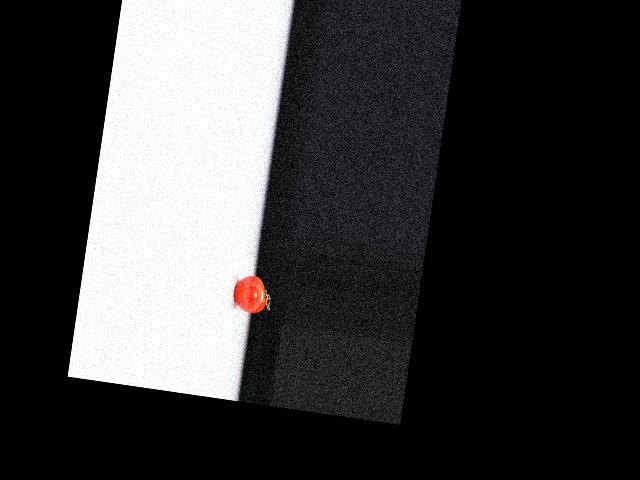tomato: (231, 272, 269, 314)
